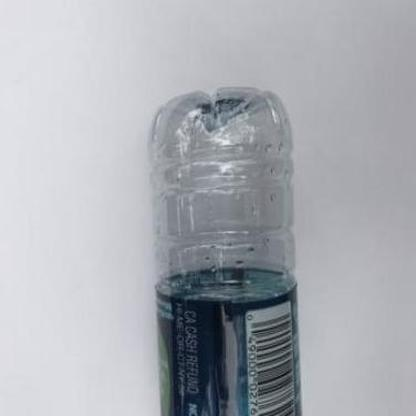plastic bottle: (148, 85, 304, 416)
